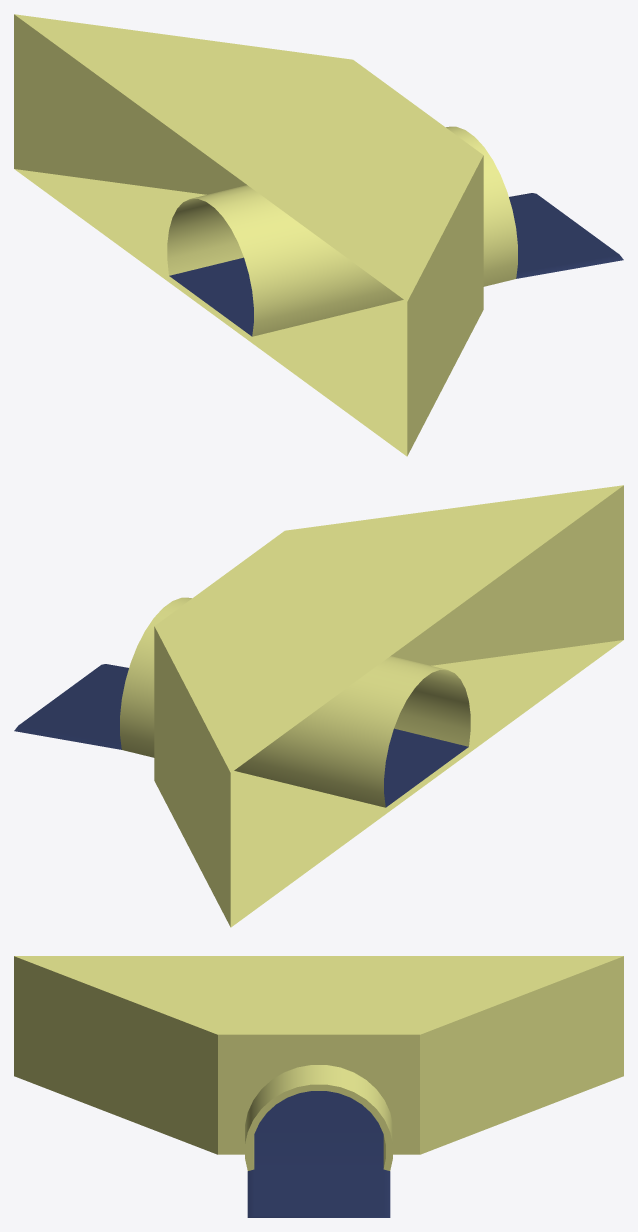
File: Тунель 4 (enter).fbx
3 renders of one model, top to bottom at view 1: azimuth 30°, elevation 25°; view 2: azimuth 150°, elevation 25°; view 3: azimuth 270°, elevation 25°, orthographic. The views are drawn at different scales.
Visible parts, largest first — view 1: Enter 2; view 2: Enter 2; view 3: Enter 2.
Part boxes in pixels (box(x1,y1,x2,y2)): Enter 2: box(14, 14, 623, 456); Enter 2: box(14, 485, 623, 927); Enter 2: box(14, 956, 623, 1217).
Size of the model in its own units: 3538 by 1454 by 6557.
